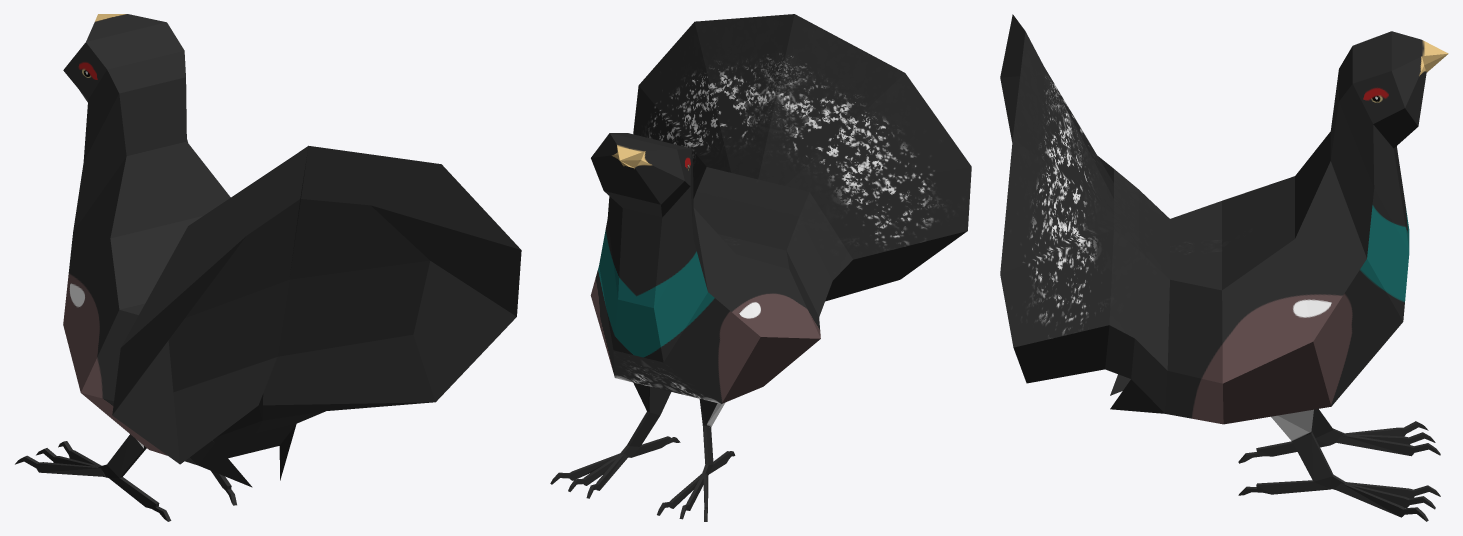
File: kurtinys.glb
The picture shows the model from 3 angles, left to right: view 1: azimuth 30°, elevation 25°; view 2: azimuth 150°, elevation 25°; view 3: azimuth 270°, elevation 25°; orthographic projection. The views are drawn at different scales.
Visible parts, largest first — view 1: Plane; view 2: Plane; view 3: Plane.
Boxes of the visible parts, x1,y1,x2,y2 form: Plane: (15, 14, 521, 521); Plane: (550, 14, 971, 521); Plane: (1000, 14, 1448, 521).
Bounding box in the file's own units: 2.02 × 2.13 × 1.93.
Materials: 1 (1 with a texture image).
